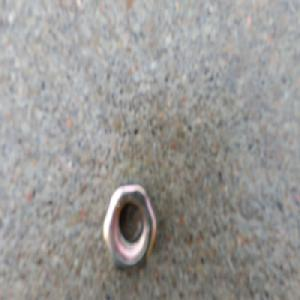Nut: (100, 178, 157, 271)
